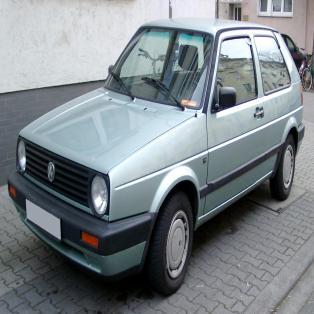Auto: (5, 21, 306, 296)
